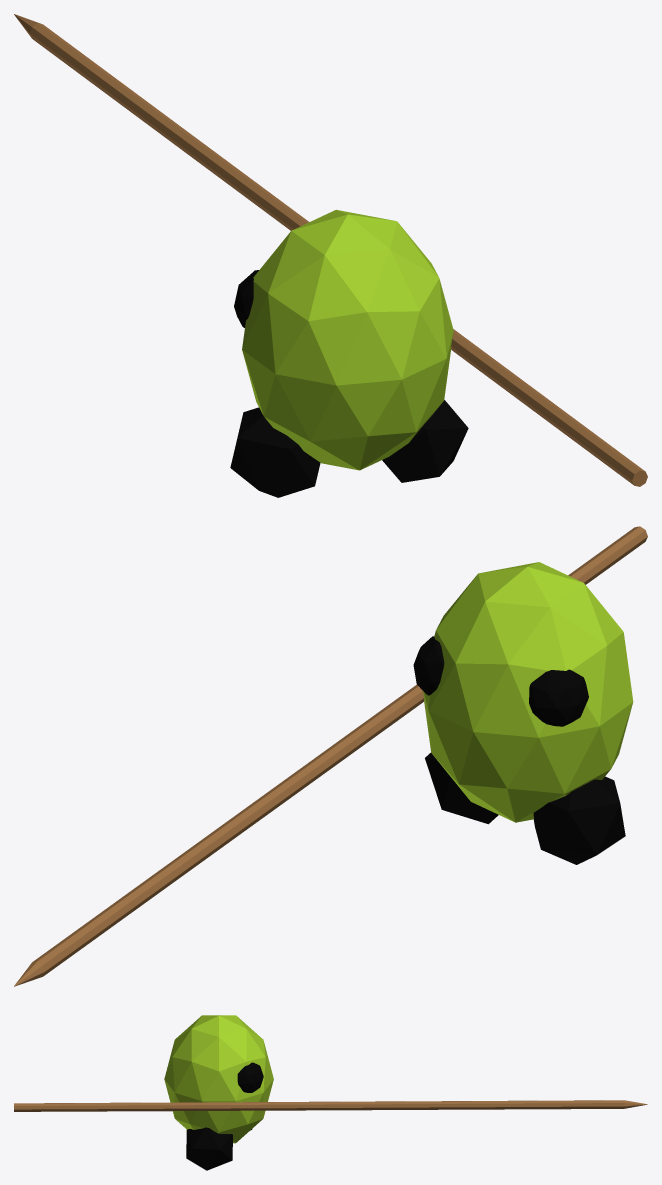
File: walk.f0011.glb
3 views of the same model, one above another, from view 1: azimuth 30°, elevation 25°; view 2: azimuth 150°, elevation 25°; view 3: azimuth 270°, elevation 25° (orthographic). The views are drawn at different scales.
Parts seen in each view (by area): view 1: Body.001; view 2: Body.001; view 3: Body.001.
Boxes of the visible parts, <box> form: Body.001: <box>14,14,647,497</box>; Body.001: <box>14,526,647,986</box>; Body.001: <box>14,1015,647,1170</box>.
Size of the model in its own units: 2.17 by 2.82 by 11.56.
1 material, 1 textured.
